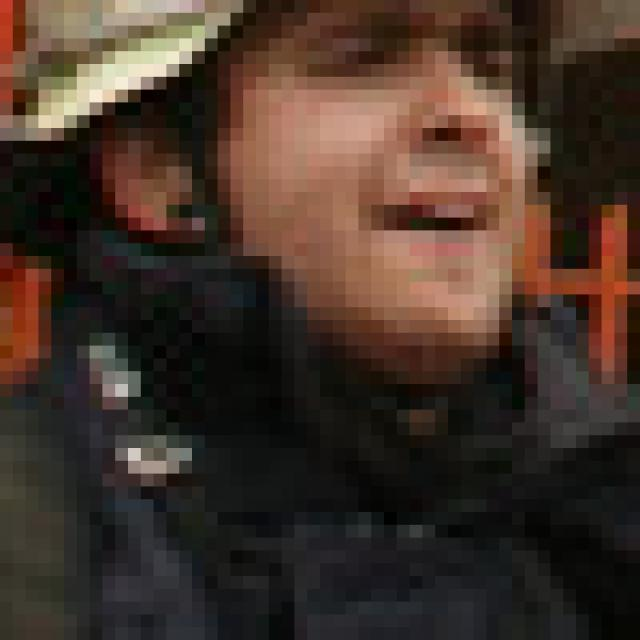no_fire: (14, 13, 640, 580)
